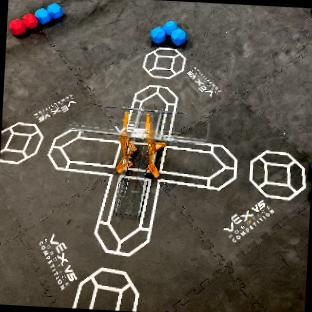V5_BLUE: (150, 21, 185, 44)
V5_RED: (9, 18, 24, 34), (23, 14, 36, 27)
